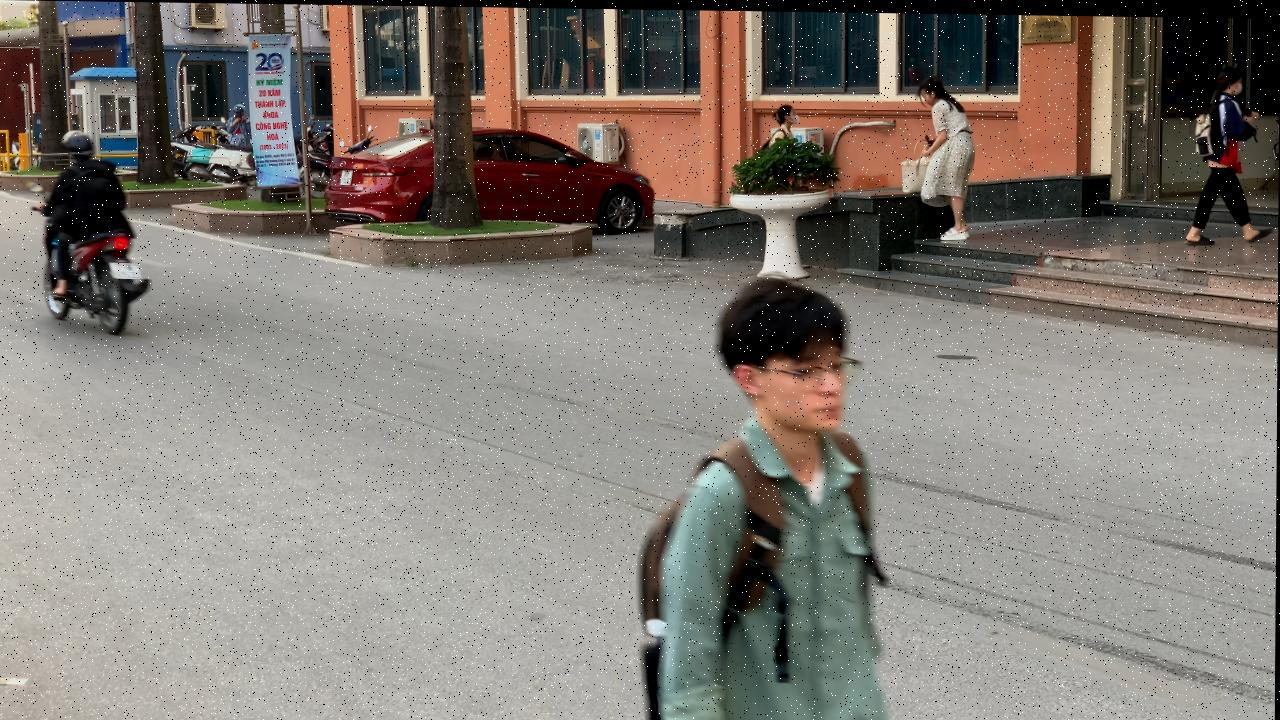helmet: (59, 133, 96, 157)
motorcyclist: (26, 129, 159, 339)
